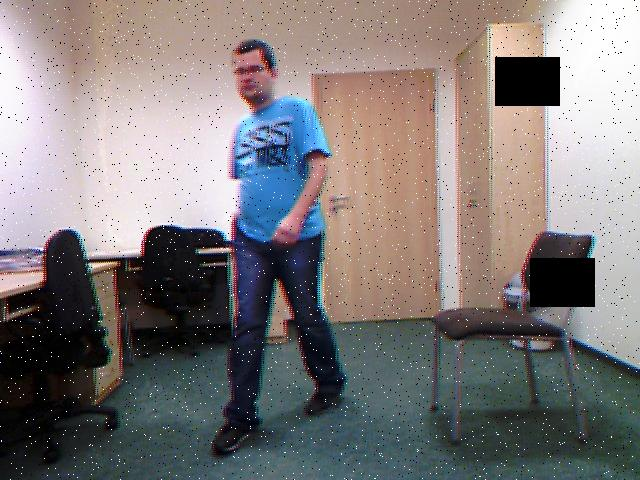walking: (203, 26, 357, 457)
